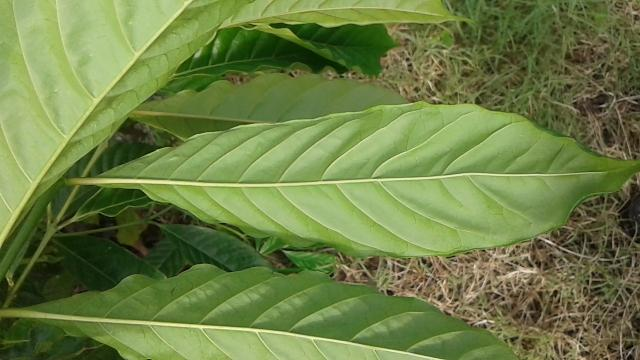healthy: (90, 95, 640, 262)
